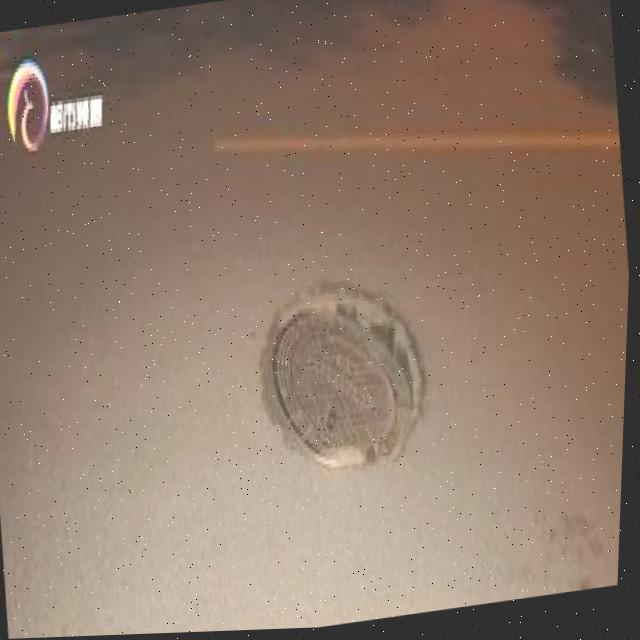manhole: (247, 253, 442, 486)
